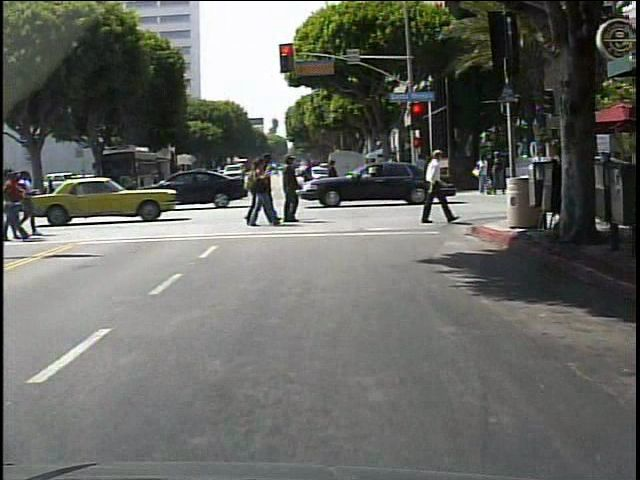person: (414, 140, 457, 233)
